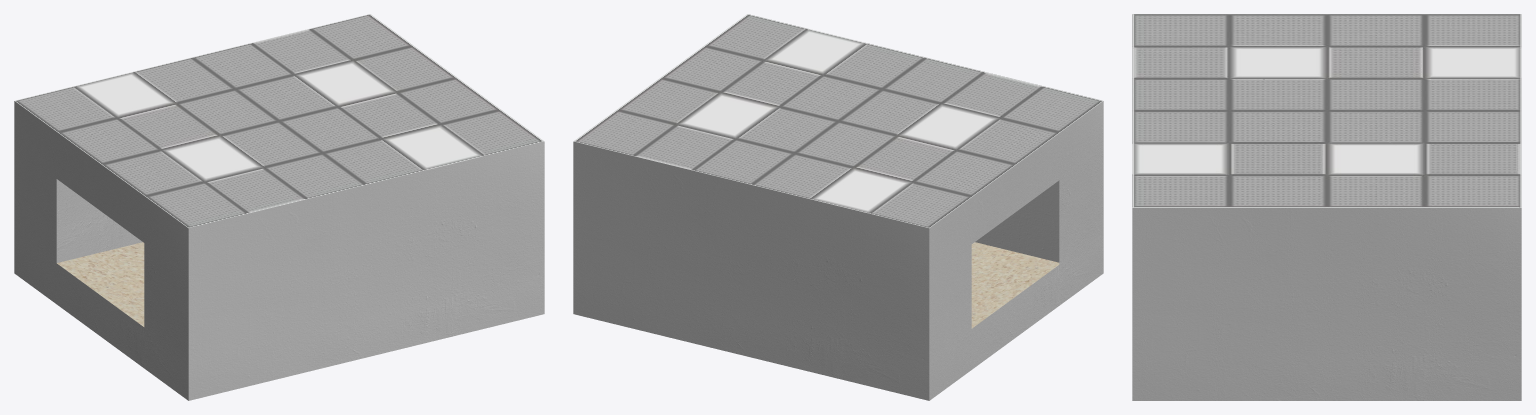
File: LabRoom.fbx
The picture shows the model from 3 angles, left to right: view 1: azimuth 30°, elevation 25°; view 2: azimuth 150°, elevation 25°; view 3: azimuth 270°, elevation 25°; orthographic projection. The views are drawn at different scales.
Visible parts, largest first — view 1: RoomNew; view 2: RoomNew; view 3: RoomNew.
Part boxes in pixels (bbox=[...]): RoomNew: bbox=[14, 14, 544, 400]; RoomNew: bbox=[573, 14, 1103, 400]; RoomNew: bbox=[1132, 14, 1521, 400].
Size of the model in its own units: 243 by 113 by 206.
3 materials, 3 textured.
